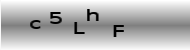5: (48, 11, 62, 24)
F: (112, 24, 125, 38)
L: (73, 21, 85, 35)
c: (29, 19, 41, 29)
h: (86, 8, 100, 22)
